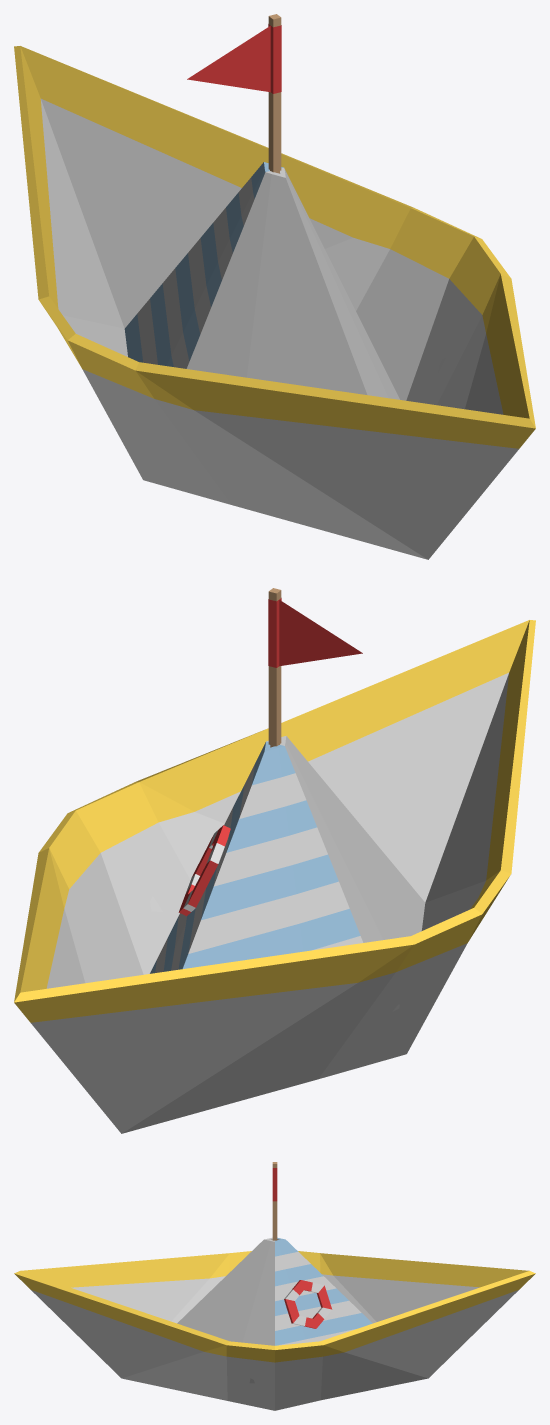
The model's file is paper-ship.fbx.
The picture shows the model from 3 angles, top to bottom: view 1: azimuth 30°, elevation 25°; view 2: azimuth 150°, elevation 25°; view 3: azimuth 270°, elevation 25°; orthographic projection. The views are drawn at different scales.
Parts seen in each view (by area): view 1: Plane, Cube.001, Cube; view 2: Plane, Cube.001, Circle, Cube; view 3: Plane, Circle.
Part boxes in pixels (x1,y1,x2,y2): Plane: (14,46,535,559); Cube.001: (187,24,281,93); Cube: (268,14,281,173); Plane: (14,620,535,1133); Cube.001: (268,598,362,667); Circle: (178,825,230,916); Cube: (268,588,281,747); Plane: (14,1237,535,1410); Circle: (284,1280,332,1328).
Size of the model in its own units: 324 by 323 by 707.
